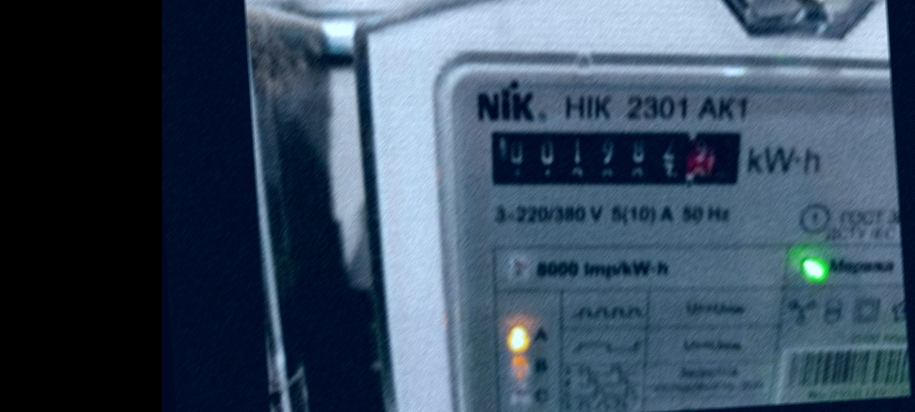0: (540, 136, 559, 166), (510, 135, 528, 165)
1: (572, 135, 586, 164)
2: (662, 132, 682, 162)
8: (632, 135, 650, 164)
9: (693, 136, 715, 165), (601, 136, 618, 166)
screen: (475, 101, 761, 214)
